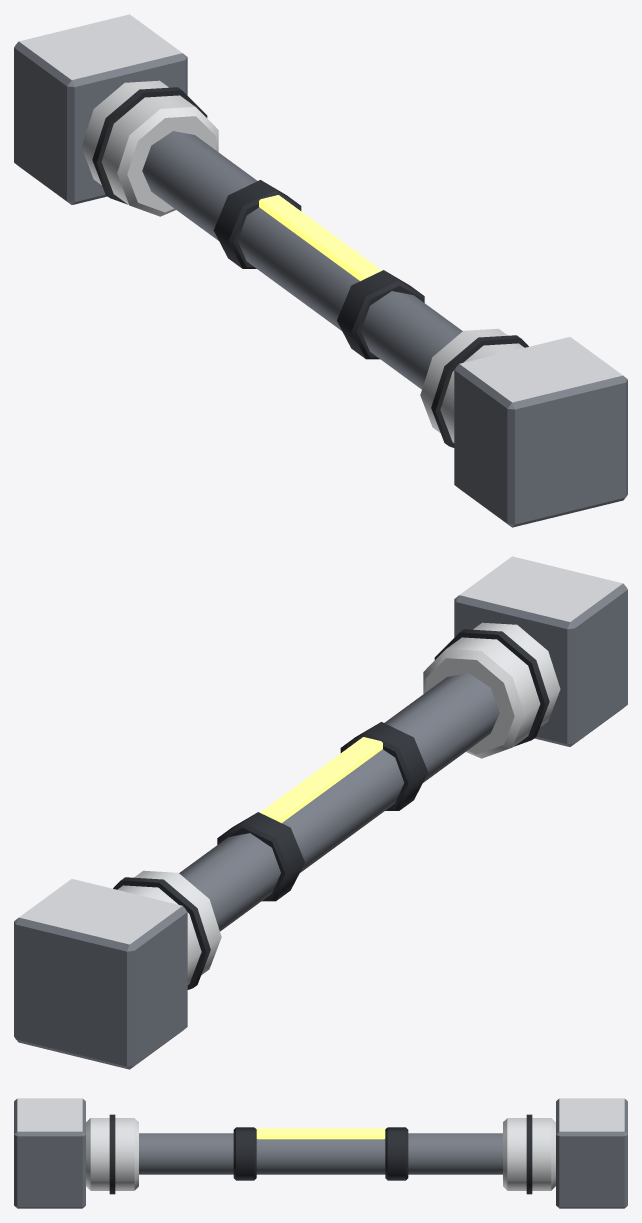
File: R4C_ROD_STANDARD_LOD1.fbx
3 views of the same model, one above another, from view 1: azimuth 30°, elevation 25°; view 2: azimuth 150°, elevation 25°; view 3: azimuth 270°, elevation 25° (orthographic). The views are drawn at different scales.
Parts seen in each view (by area): view 1: R4C_ROD_STANDARD_LOD1; view 2: R4C_ROD_STANDARD_LOD1; view 3: R4C_ROD_STANDARD_LOD1.
Boxes of the visible parts, x1,y1,x2,y2 form: R4C_ROD_STANDARD_LOD1: [14, 14, 627, 527]; R4C_ROD_STANDARD_LOD1: [14, 556, 627, 1069]; R4C_ROD_STANDARD_LOD1: [14, 1098, 627, 1208].
Size of the model in its own units: 0.226 by 0.224 by 1.62.
